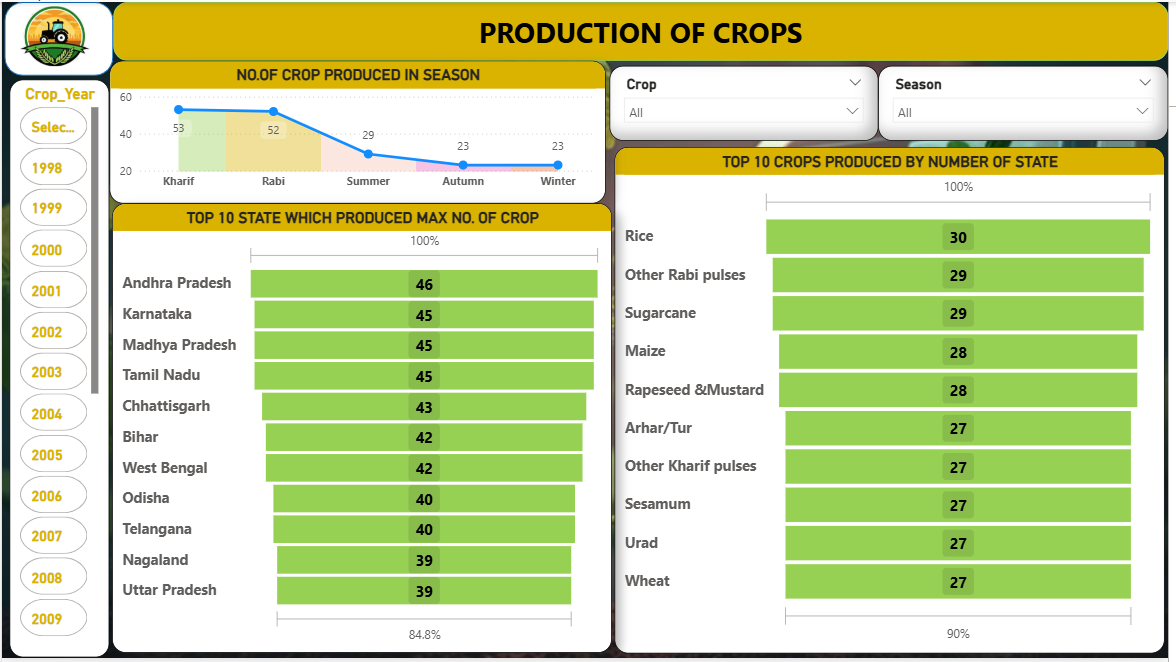

This screenshot's page, from the dashboard's own definition file:
{"tool":"powerbi","page":{"name":"Page 4","canvas":[1280,720],"ordinal":3},"visuals":[{"type":"funnel","title":"TOP 10 CROPS PRODUCED BY NUMBER OF STATE","fields":{"Category":["crop_yield.Crop"],"Y":["Count(crop_yield.State)"]},"box":[672.4,159.2,603.8,555.7],"z":0},{"type":"advancedSlicerVisual","fields":{"Values":["crop_yield.Crop_Year"]},"box":[8.4,85.4,109.8,634.6],"z":1},{"type":"shape","box":[2.7,0,119.4,81],"z":2},{"type":"image","box":[0,0,116.6,75.5],"z":3},{"type":"shape","box":[122.1,0,1158.2,64.5],"z":4},{"type":"areaChart","title":"NO.OF CROP PRODUCED IN SEASON","fields":{"Category":["crop_yield.Season"],"Y":["Count(crop_yield.Crop)"]},"box":[118,64.5,544.8,156.4],"z":6},{"type":"funnel","title":"TOP 10 STATE WHICH PRODUCED MAX NO. OF CROP","fields":{"Category":["crop_yield.State"],"Y":["Count(crop_yield.Crop)"]},"box":[120.8,220.9,548.9,494],"z":7},{"type":"slicer","fields":{"Values":["crop_yield.Crop"]},"box":[666.9,70,295,82.3],"z":8},{"type":"slicer","fields":{"Values":["crop_yield.Season"]},"box":[961.9,70,318.4,82.3],"z":9}]}

Visuals, with their boxes in screenshot pixels (x1, y1, x2, y2), scaled from the page's 1280x720 canvas onto the 1176x662 screenshot:
"TOP 10 CROPS PRODUCED BY NUMBER OF STATE" funnel: <bbox>618, 146, 1173, 657</bbox>
advancedSlicerVisual - crop_yield.Crop_Year: <bbox>8, 79, 109, 661</bbox>
shape: <bbox>2, 0, 112, 74</bbox>
image: <bbox>0, 0, 107, 69</bbox>
shape: <bbox>112, 0, 1175, 59</bbox>
"NO.OF CROP PRODUCED IN SEASON" areaChart: <bbox>108, 59, 609, 203</bbox>
"TOP 10 STATE WHICH PRODUCED MAX NO. OF CROP" funnel: <bbox>111, 203, 615, 657</bbox>
slicer - crop_yield.Crop: <bbox>613, 64, 884, 140</bbox>
slicer - crop_yield.Season: <bbox>884, 64, 1175, 140</bbox>
